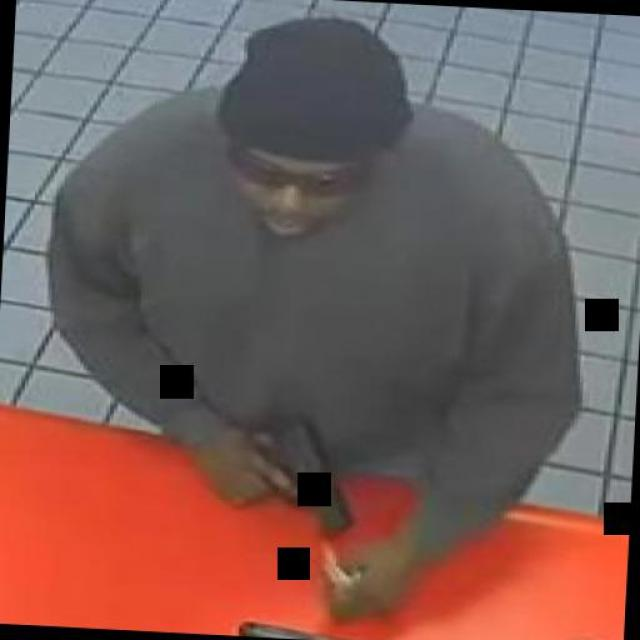gun: (201, 412, 351, 532)
